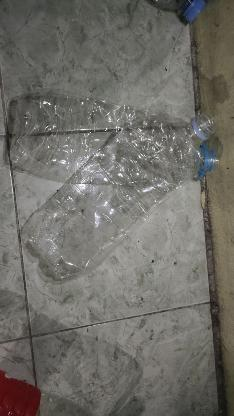Plastic Bottle: (9, 92, 220, 286), (122, 0, 214, 26)
